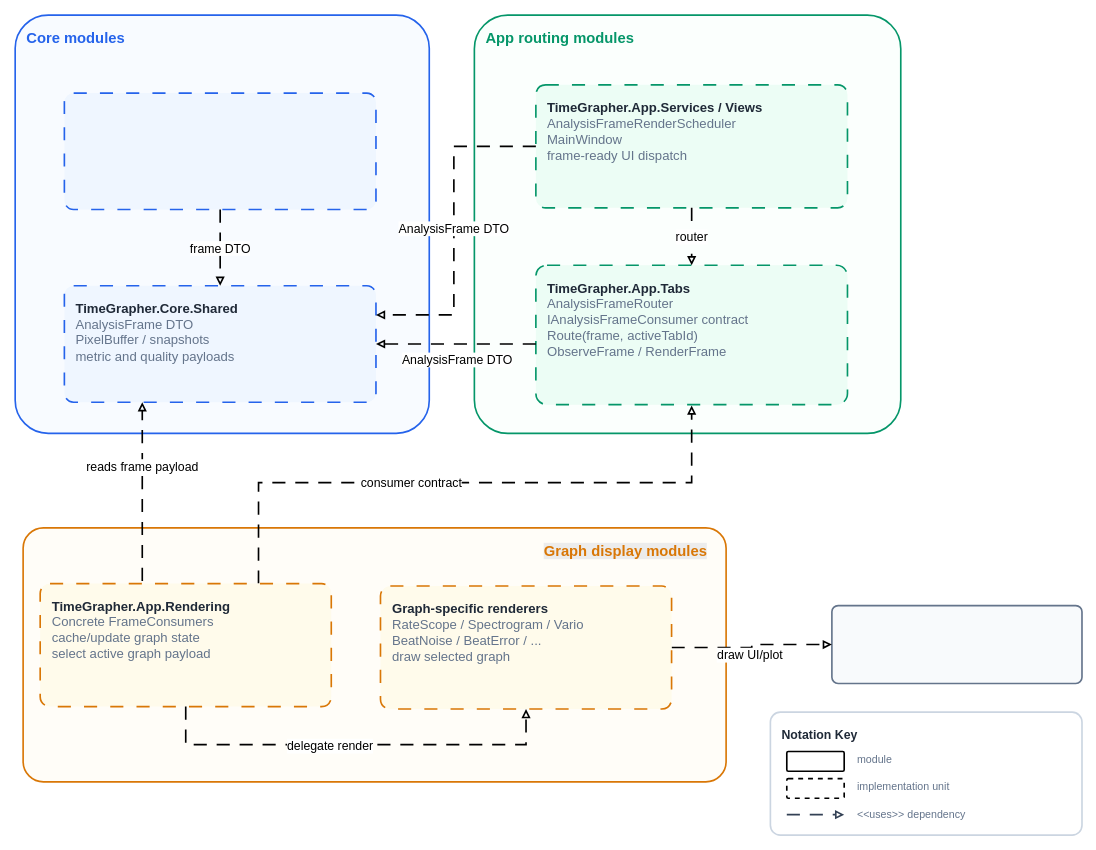
This 1096x850 diagram has some shape labels left out. Here are the shapes that lost their labels. From the top down, the centre of each, then its label:
At [219,151]: "TimeGrapher.Core.Analysis AnalysisWorker Detector / Metrics FrameProjectors".
At [956,644]: "External libraries Avalonia UI ScottPlot.Avalonia".
